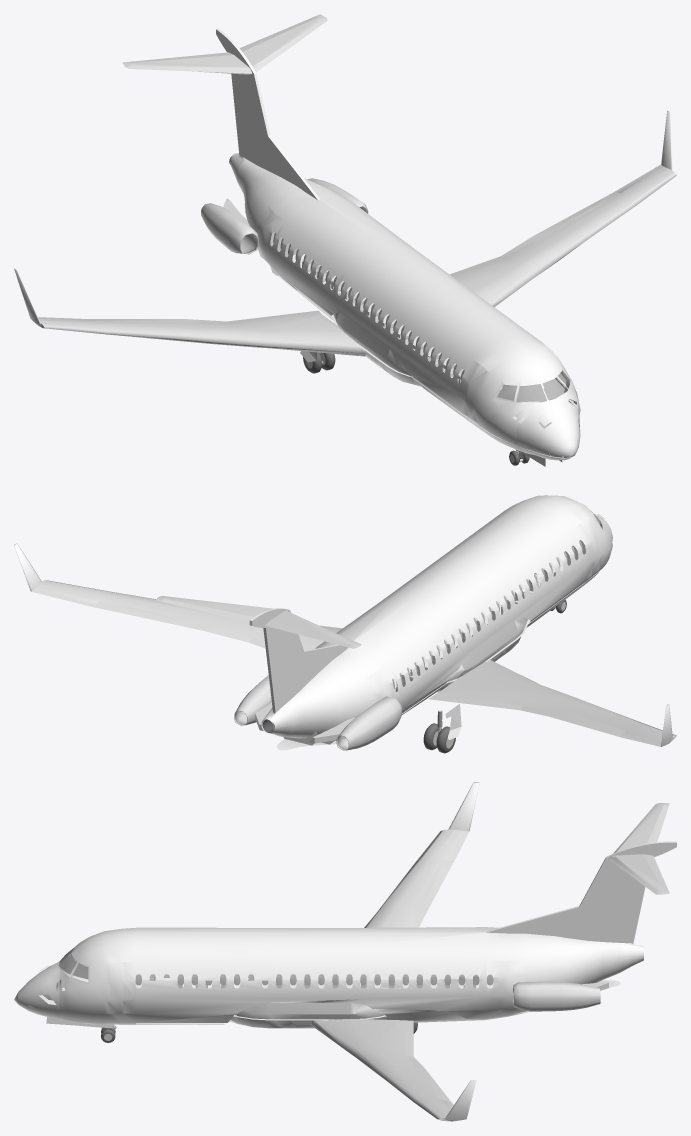
3 views of the same model, one above another, from view 1: azimuth 30°, elevation 25°; view 2: azimuth 150°, elevation 25°; view 3: azimuth 270°, elevation 25° (orthographic). The views are drawn at different scales.
Parts seen in each view (by area): view 1: Embraer ERJ-145XR_001.018, Embraer ERJ-145XR_001.074, Embraer ERJ-145XR_001.073, engine_001, Embraer ERJ-145XR_001.012, Group_062, Embraer ERJ-145XR_001.075; view 2: Embraer ERJ-145XR_001.018, Embraer ERJ-145XR_001.074, Embraer ERJ-145XR_001.073, engine_001, Embraer ERJ-145XR_001.075, Embraer ERJ-145XR_001.012, Group_062, Embraer ERJ-145XR_001.077, engine_002, Group_007, Embraer ERJ-145XR_001.008, engine_connector_001; view 3: Embraer ERJ-145XR_001.018, Embraer ERJ-145XR_001.073, Embraer ERJ-145XR_001.074, Embraer ERJ-145XR_001.012, engine_002, Embraer ERJ-145XR_001.077, Group_062, Embraer ERJ-145XR_001.009, Embraer ERJ-145XR_001.075, Embraer ERJ-145XR_001.008.
Boxes of the visible parts, x1,y1,x2,y2 form: Embraer ERJ-145XR_001.018: [122, 14, 580, 460]; Embraer ERJ-145XR_001.074: [38, 310, 366, 356]; Embraer ERJ-145XR_001.073: [452, 164, 676, 306]; engine_001: [201, 203, 258, 254]; Embraer ERJ-145XR_001.012: [333, 312, 421, 386]; Group_062: [244, 203, 574, 458]; Embraer ERJ-145XR_001.075: [450, 167, 659, 276]; Embraer ERJ-145XR_001.018: [155, 495, 612, 741]; Embraer ERJ-145XR_001.074: [428, 660, 676, 746]; Embraer ERJ-145XR_001.073: [31, 580, 342, 650]; engine_001: [336, 696, 402, 750]; Embraer ERJ-145XR_001.075: [38, 589, 265, 648]; Embraer ERJ-145XR_001.012: [437, 617, 527, 692]; Group_062: [277, 527, 603, 750]; Embraer ERJ-145XR_001.077: [444, 696, 659, 745]; engine_002: [234, 675, 271, 725]; Group_007: [437, 704, 461, 739]; Embraer ERJ-145XR_001.008: [14, 543, 41, 591]; engine_connector_001: [309, 717, 355, 743]; Embraer ERJ-145XR_001.018: [14, 803, 676, 1024]; Embraer ERJ-145XR_001.073: [310, 1019, 459, 1121]; Embraer ERJ-145XR_001.074: [364, 829, 469, 927]; Embraer ERJ-145XR_001.012: [229, 1002, 388, 1028]; engine_002: [513, 981, 600, 1011]; Embraer ERJ-145XR_001.077: [410, 833, 467, 927]; Group_062: [14, 979, 621, 1020]; Embraer ERJ-145XR_001.009: [448, 782, 479, 831]; Embraer ERJ-145XR_001.075: [405, 1025, 453, 1108]; Embraer ERJ-145XR_001.008: [445, 1080, 476, 1120].
Bounding box in the file's own units: 37.02 × 12.23 × 34.76.
175 materials, 3 textured.
